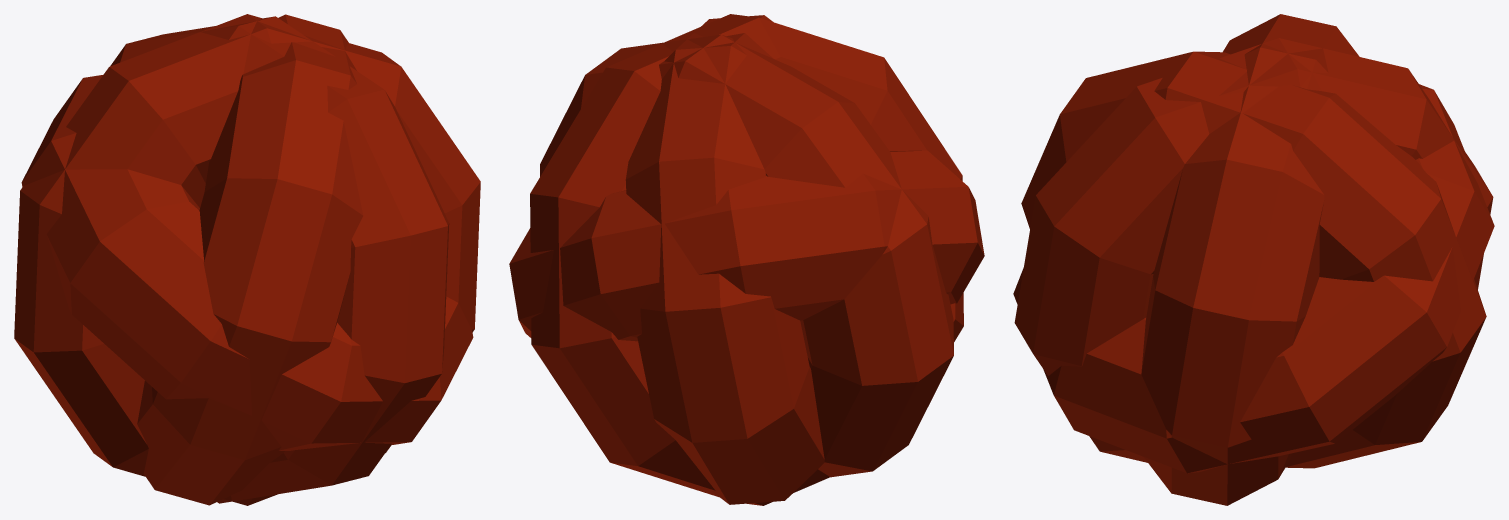
The model's file is BolletjeWol.fbx.
3 views of the same model, side by side, from view 1: azimuth 30°, elevation 25°; view 2: azimuth 150°, elevation 25°; view 3: azimuth 270°, elevation 25° (orthographic).
Visible parts, largest first — view 1: polySurface1; view 2: polySurface1; view 3: polySurface1.
Part boxes in pixels (x1=…): polySurface1: x1=14, y1=14, x2=480, y2=505; polySurface1: x1=509, y1=14, x2=984, y2=505; polySurface1: x1=1013, y1=14, x2=1494, y2=505.
Bounding box in the file's own units: 0.0817 × 0.0828 × 0.0808.
